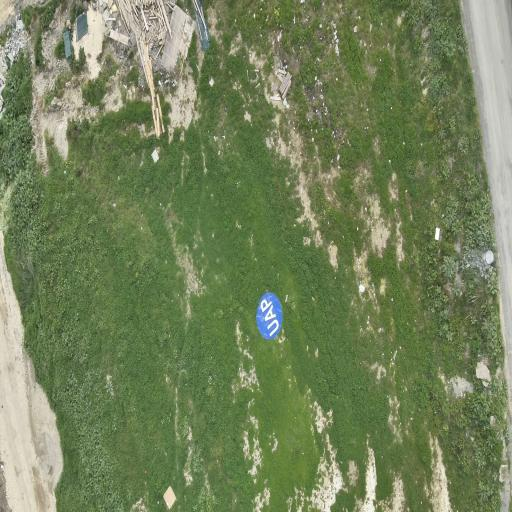UAP: (257, 293, 282, 339)
